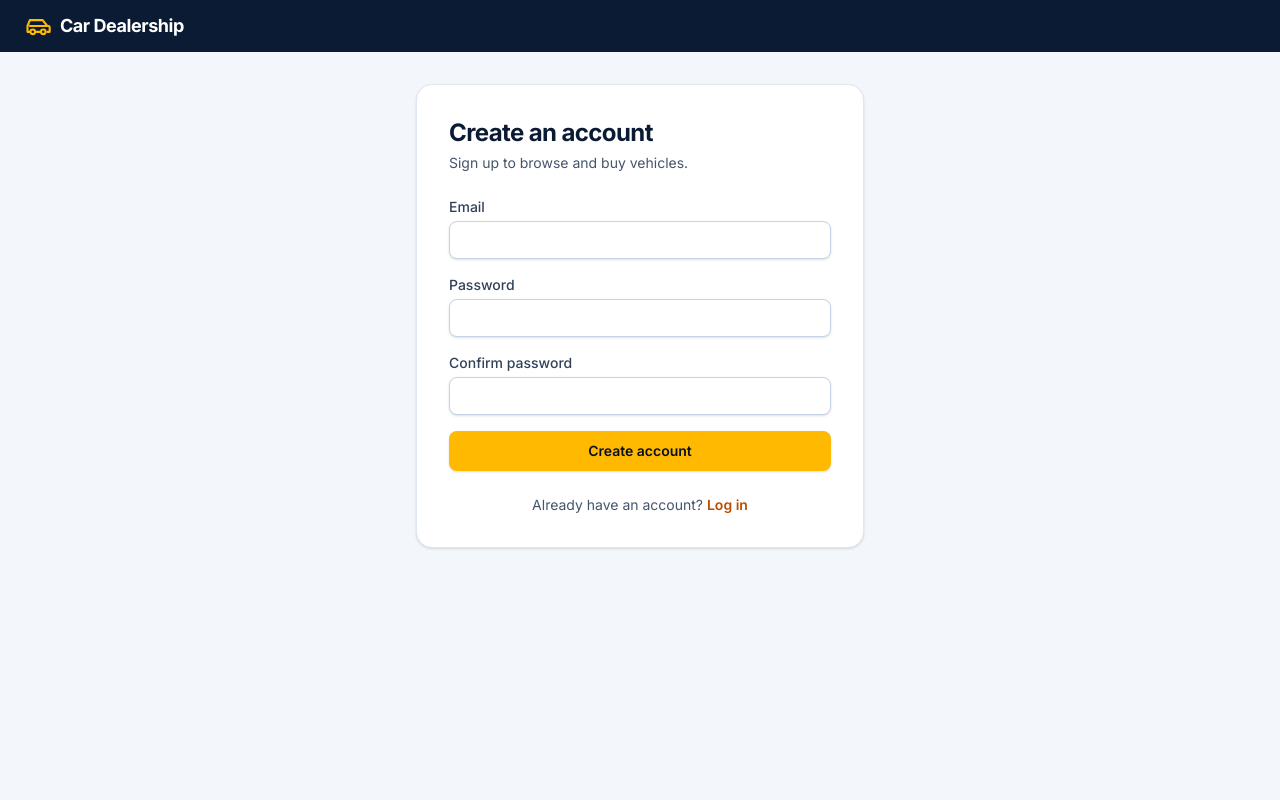
it: RegisterPage › shows the API error when the e-mail is already registered
This screenshot has width=1280, height=800.
Type "customer@example.com" into the field labelled "Email".
click(640, 240); type("customer@example.com")  # box left=449, top=221, right=831, bottom=259
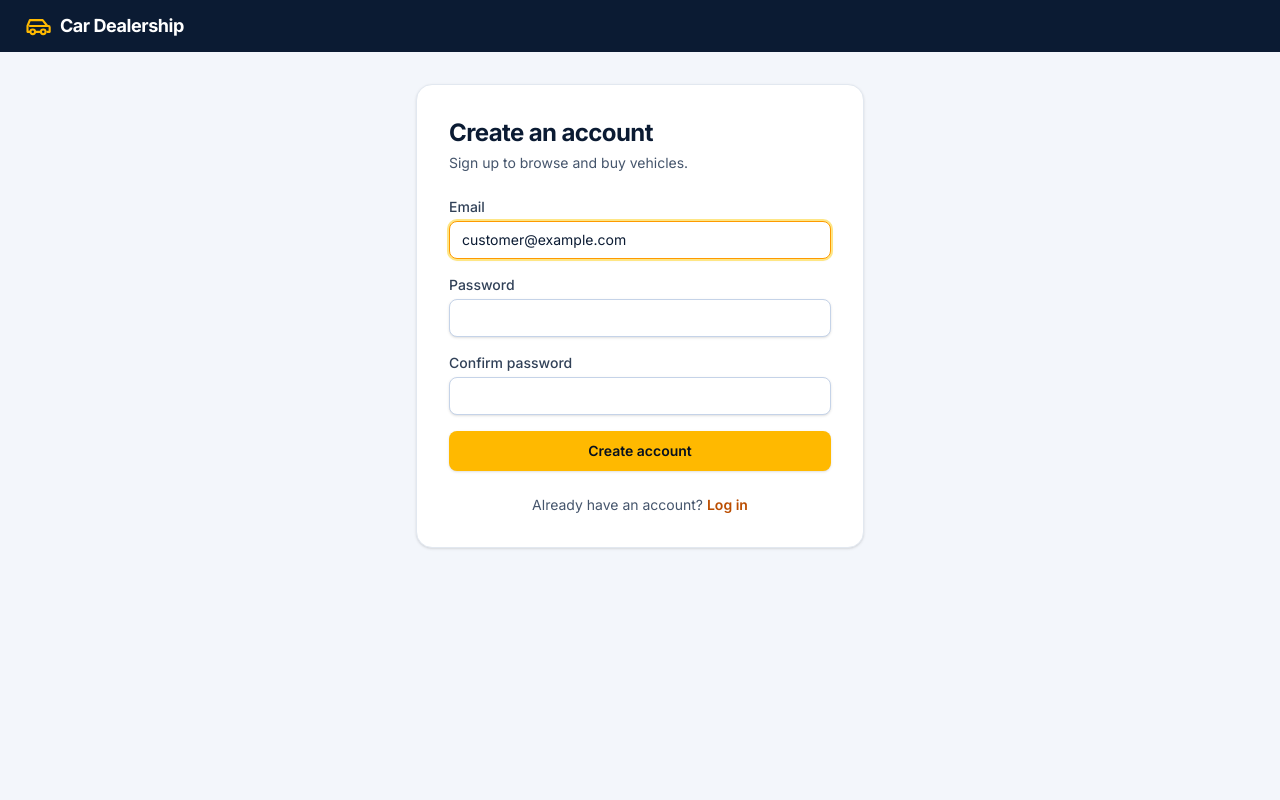
Type "correct-horse" into the password field labelled "Password".
click(640, 318); type("correct-horse")  # box left=449, top=299, right=831, bottom=337
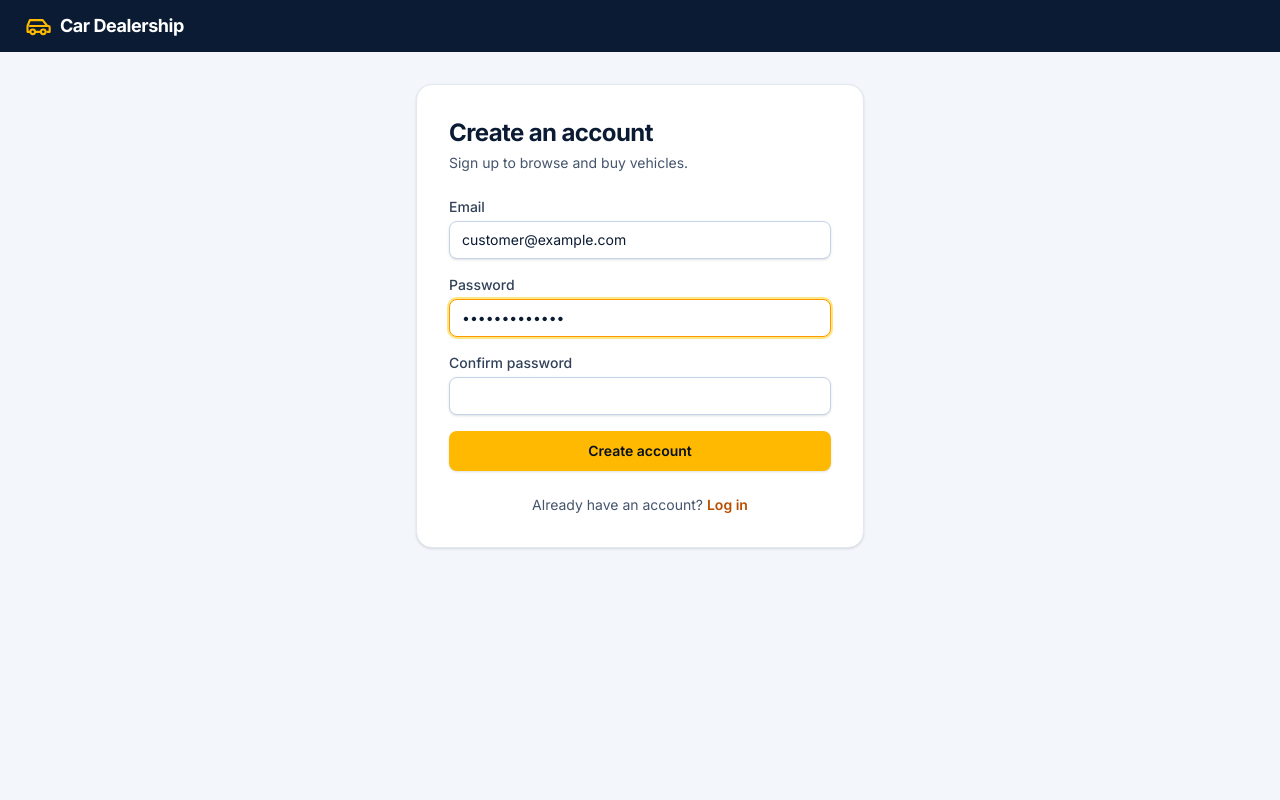
Type "correct-horse" into the password field labelled "Confirm password".
click(640, 396); type("correct-horse")  # box left=449, top=377, right=831, bottom=415
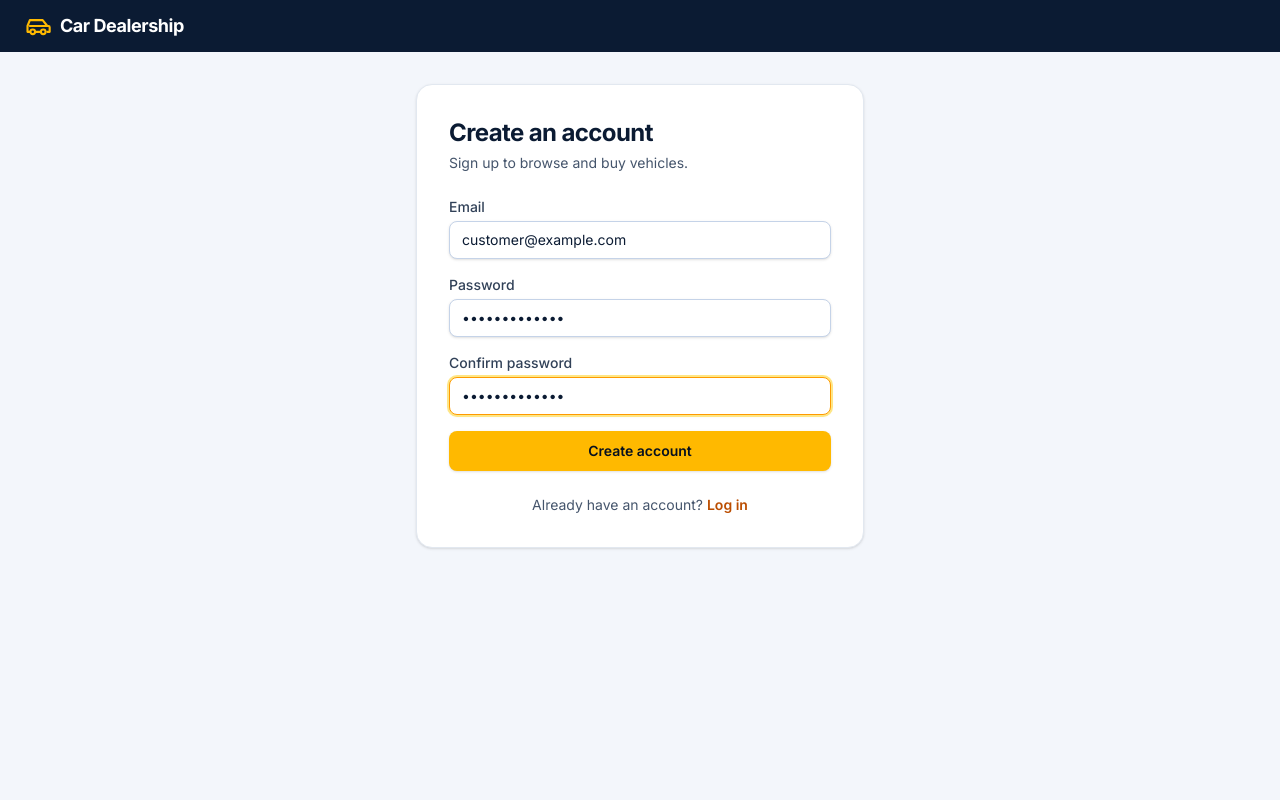
Click the button "Create account".
click(640, 451)  # box left=449, top=431, right=831, bottom=471
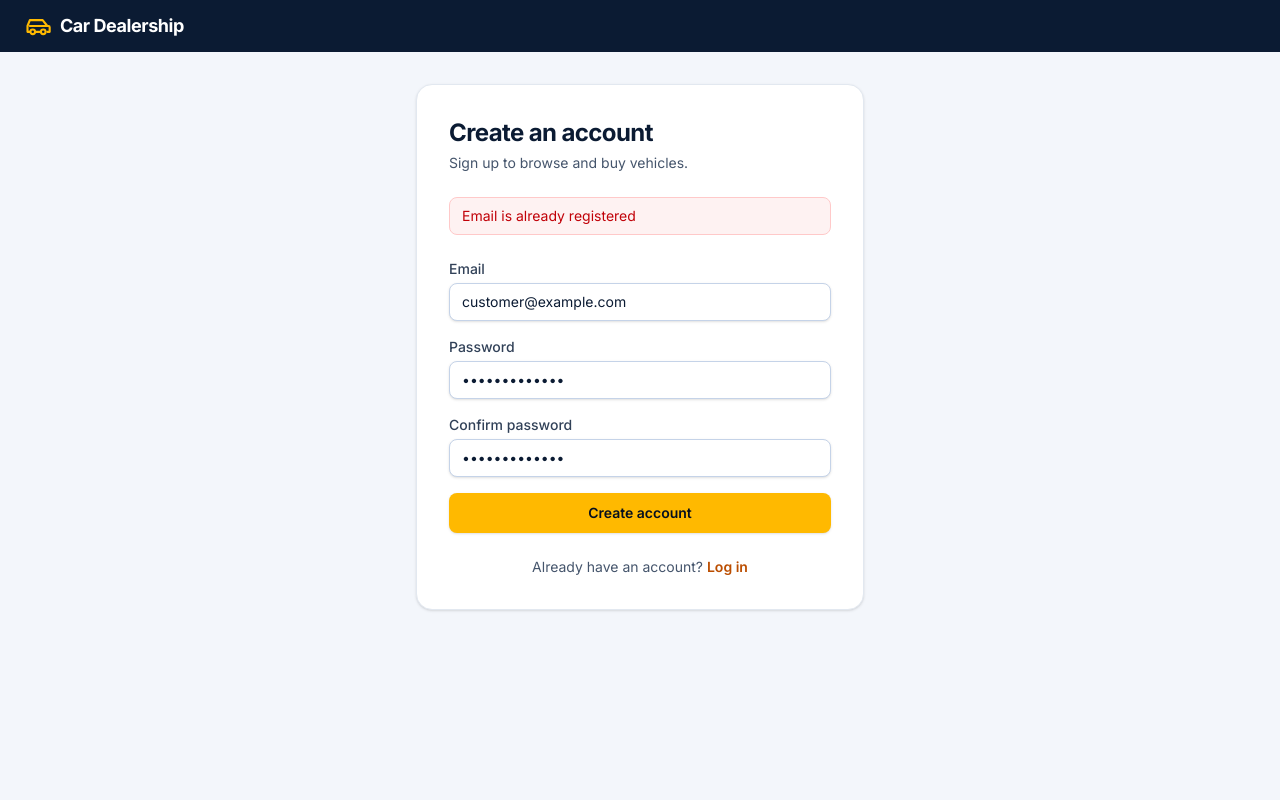
Expected: the message reads "Email is already registered", left=462, top=207, right=636, bottom=224
